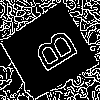B: (23, 26, 80, 80)
